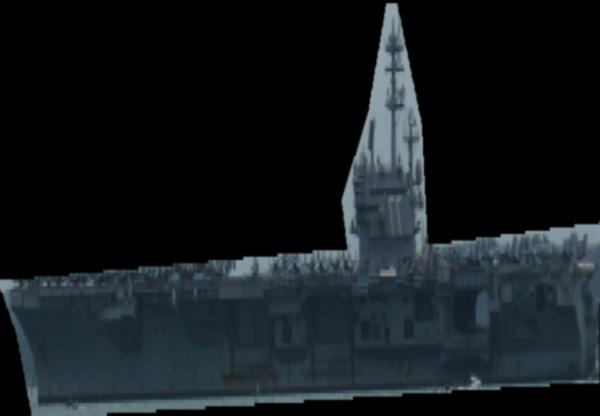Aircraft Carrier: (0, 3, 600, 416)
